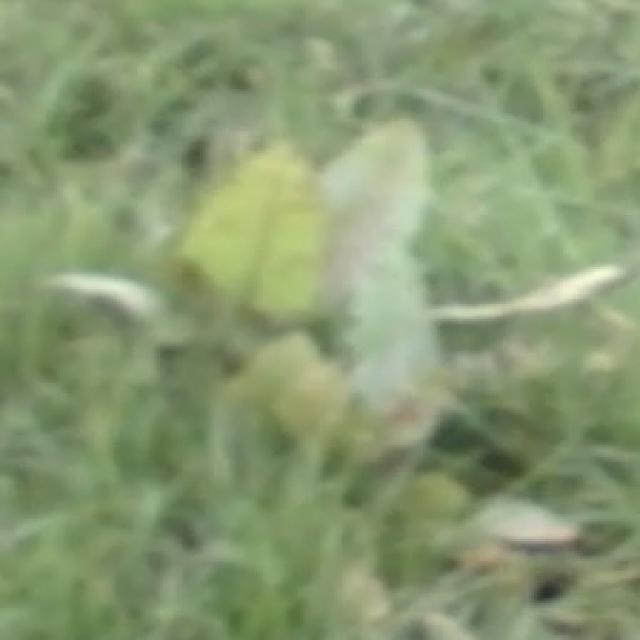organic waste: (86, 94, 604, 468)
